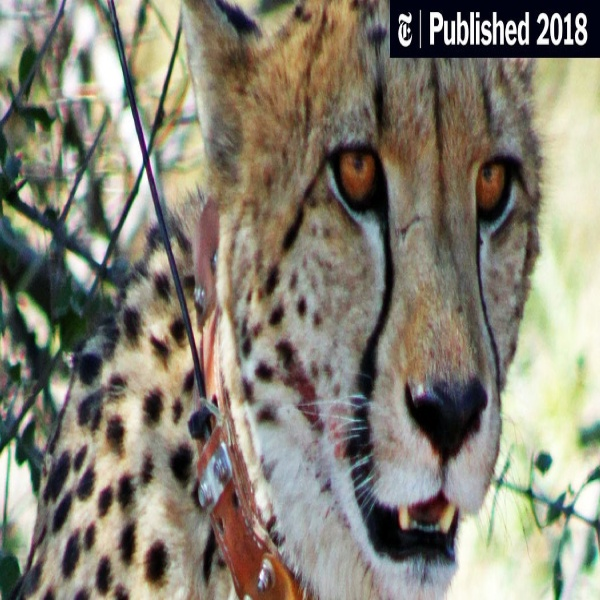Cheetah: (29, 10, 546, 600)
